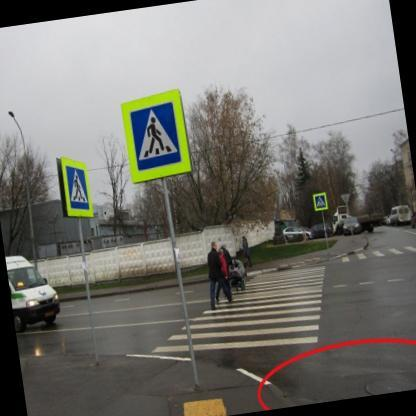road_sign: (122, 89, 190, 183), (57, 156, 94, 217), (314, 192, 328, 212)
